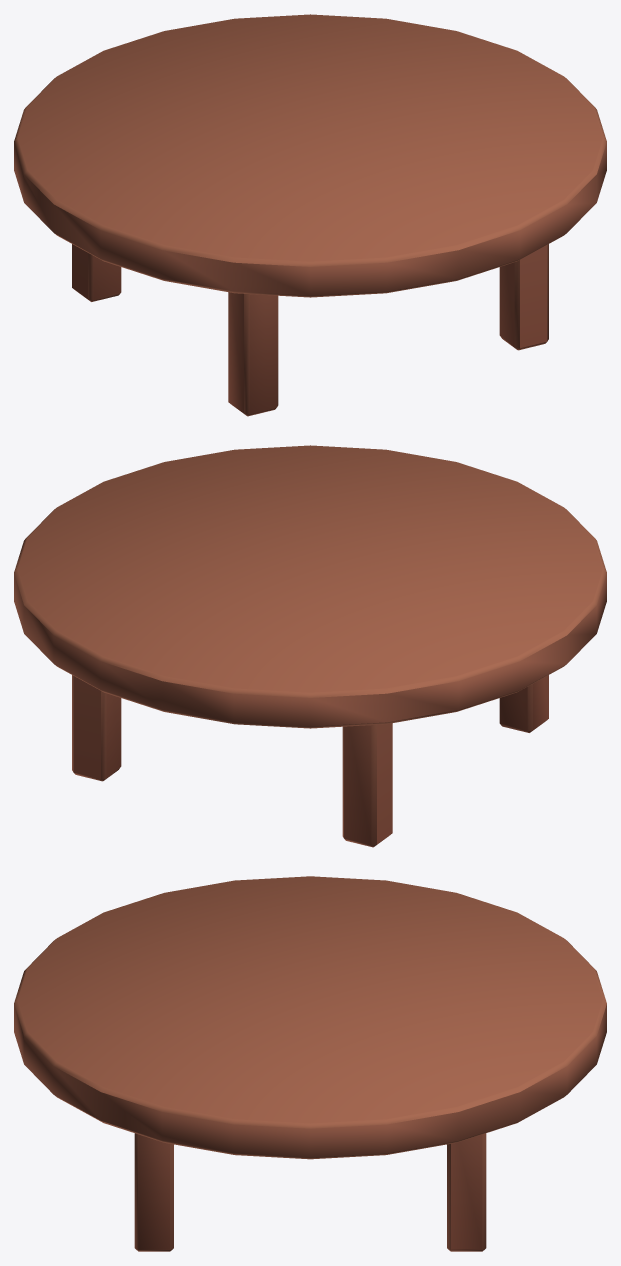
File: table_round_B.obj
The picture shows the model from 3 angles, top to bottom: view 1: azimuth 30°, elevation 25°; view 2: azimuth 150°, elevation 25°; view 3: azimuth 270°, elevation 25°; orthographic projection.
Parts seen in each view (by area): view 1: table_round_B_Cylinder.471; view 2: table_round_B_Cylinder.471; view 3: table_round_B_Cylinder.471.
Part boxes in pixels (x1,y1,x2,y2): table_round_B_Cylinder.471: [14, 14, 606, 416]; table_round_B_Cylinder.471: [14, 445, 606, 847]; table_round_B_Cylinder.471: [14, 876, 606, 1251].
Bounding box in the file's own units: 3 × 1 × 3.
Materials: 1 (1 with a texture image).
